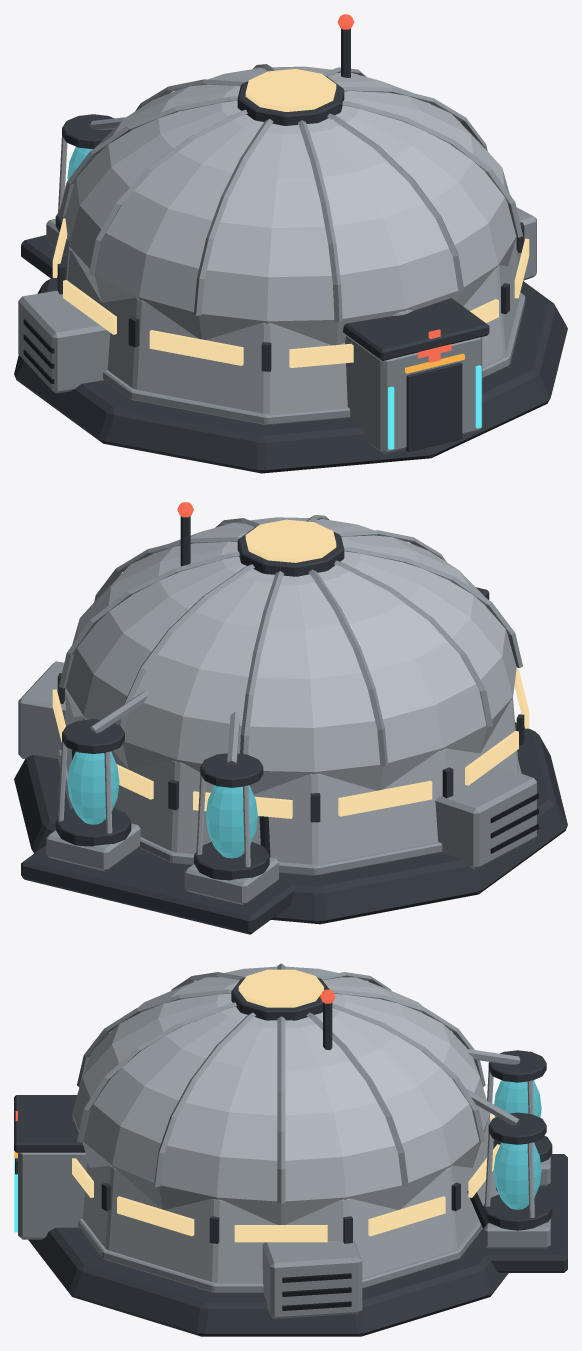
File: exo-civic.glb
3 views of the same model, one above another, from view 1: azimuth 30°, elevation 25°; view 2: azimuth 150°, elevation 25°; view 3: azimuth 270°, elevation 25° (orthographic). The views are drawn at different scales.
Parts seen in each view (by area): view 1: body; view 2: body, gpod_b, gpod_a; view 3: body, gpod_b, gpod_a.
Boxes of the visible parts, x1,y1,x2,y2 form: body: [14, 14, 567, 473]; body: [14, 502, 567, 934]; gpod_b: [67, 751, 119, 824]; gpod_a: [206, 785, 257, 858]; body: [14, 963, 567, 1336]; gpod_b: [493, 1142, 541, 1209]; gpod_a: [494, 1080, 541, 1117].
Bounding box in the file's own units: 13.39 × 7.95 × 14.3.
